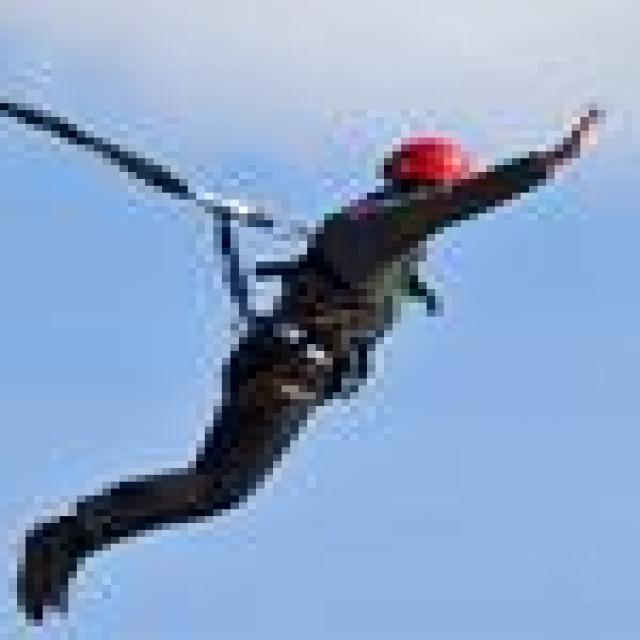fall: (20, 105, 605, 635)
